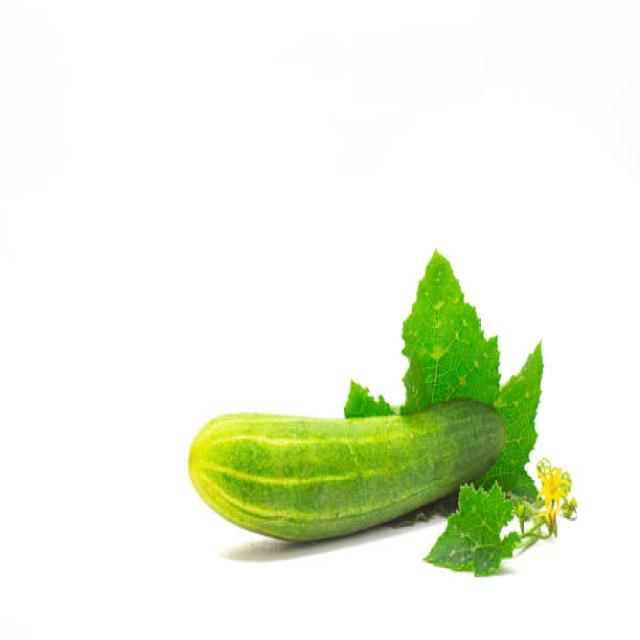cucumber: (187, 396, 506, 545)
